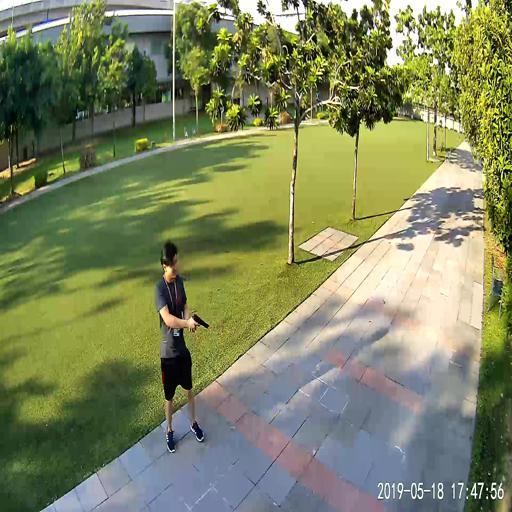Handgun: (190, 310, 208, 332)
